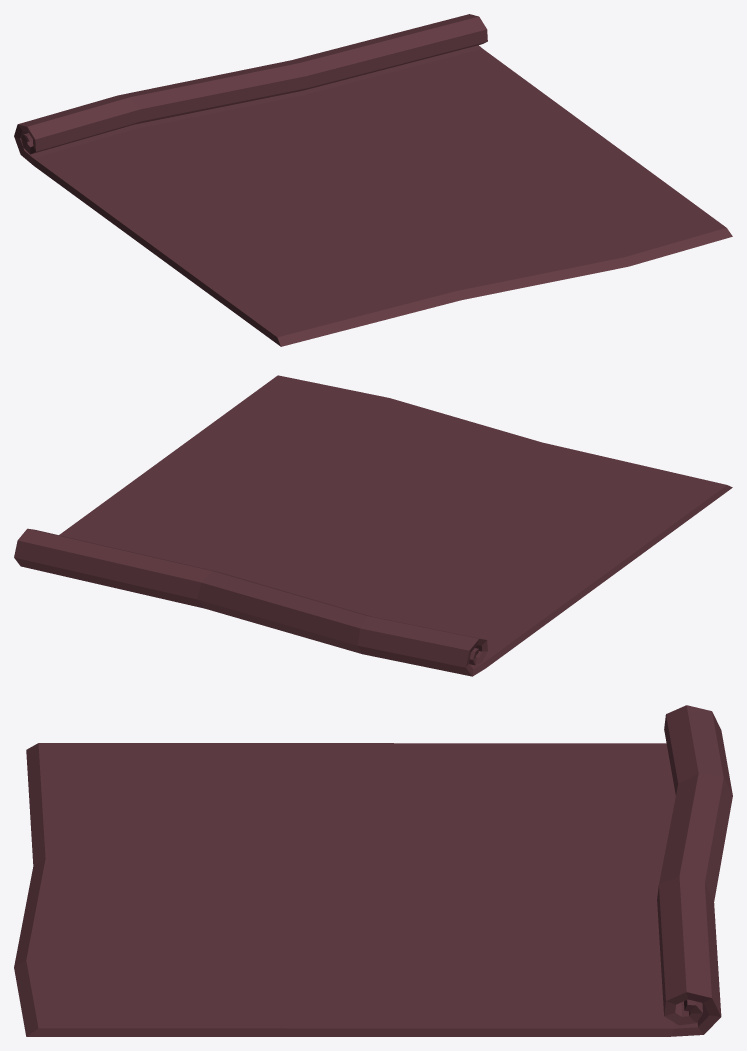
Rendered from safe-house-rug.fbx.
The picture shows the model from 3 angles, top to bottom: view 1: azimuth 30°, elevation 25°; view 2: azimuth 150°, elevation 25°; view 3: azimuth 270°, elevation 25°; orthographic projection. The views are drawn at different scales.
Parts seen in each view (by area): view 1: safe-house-rug; view 2: safe-house-rug; view 3: safe-house-rug.
Part boxes in pixels (box(x1,y1,x2,y2)): safe-house-rug: box(14, 14, 732, 346); safe-house-rug: box(14, 375, 732, 676); safe-house-rug: box(14, 705, 732, 1036).
Size of the model in its own units: 2.86 by 0.2079 by 3.03.
